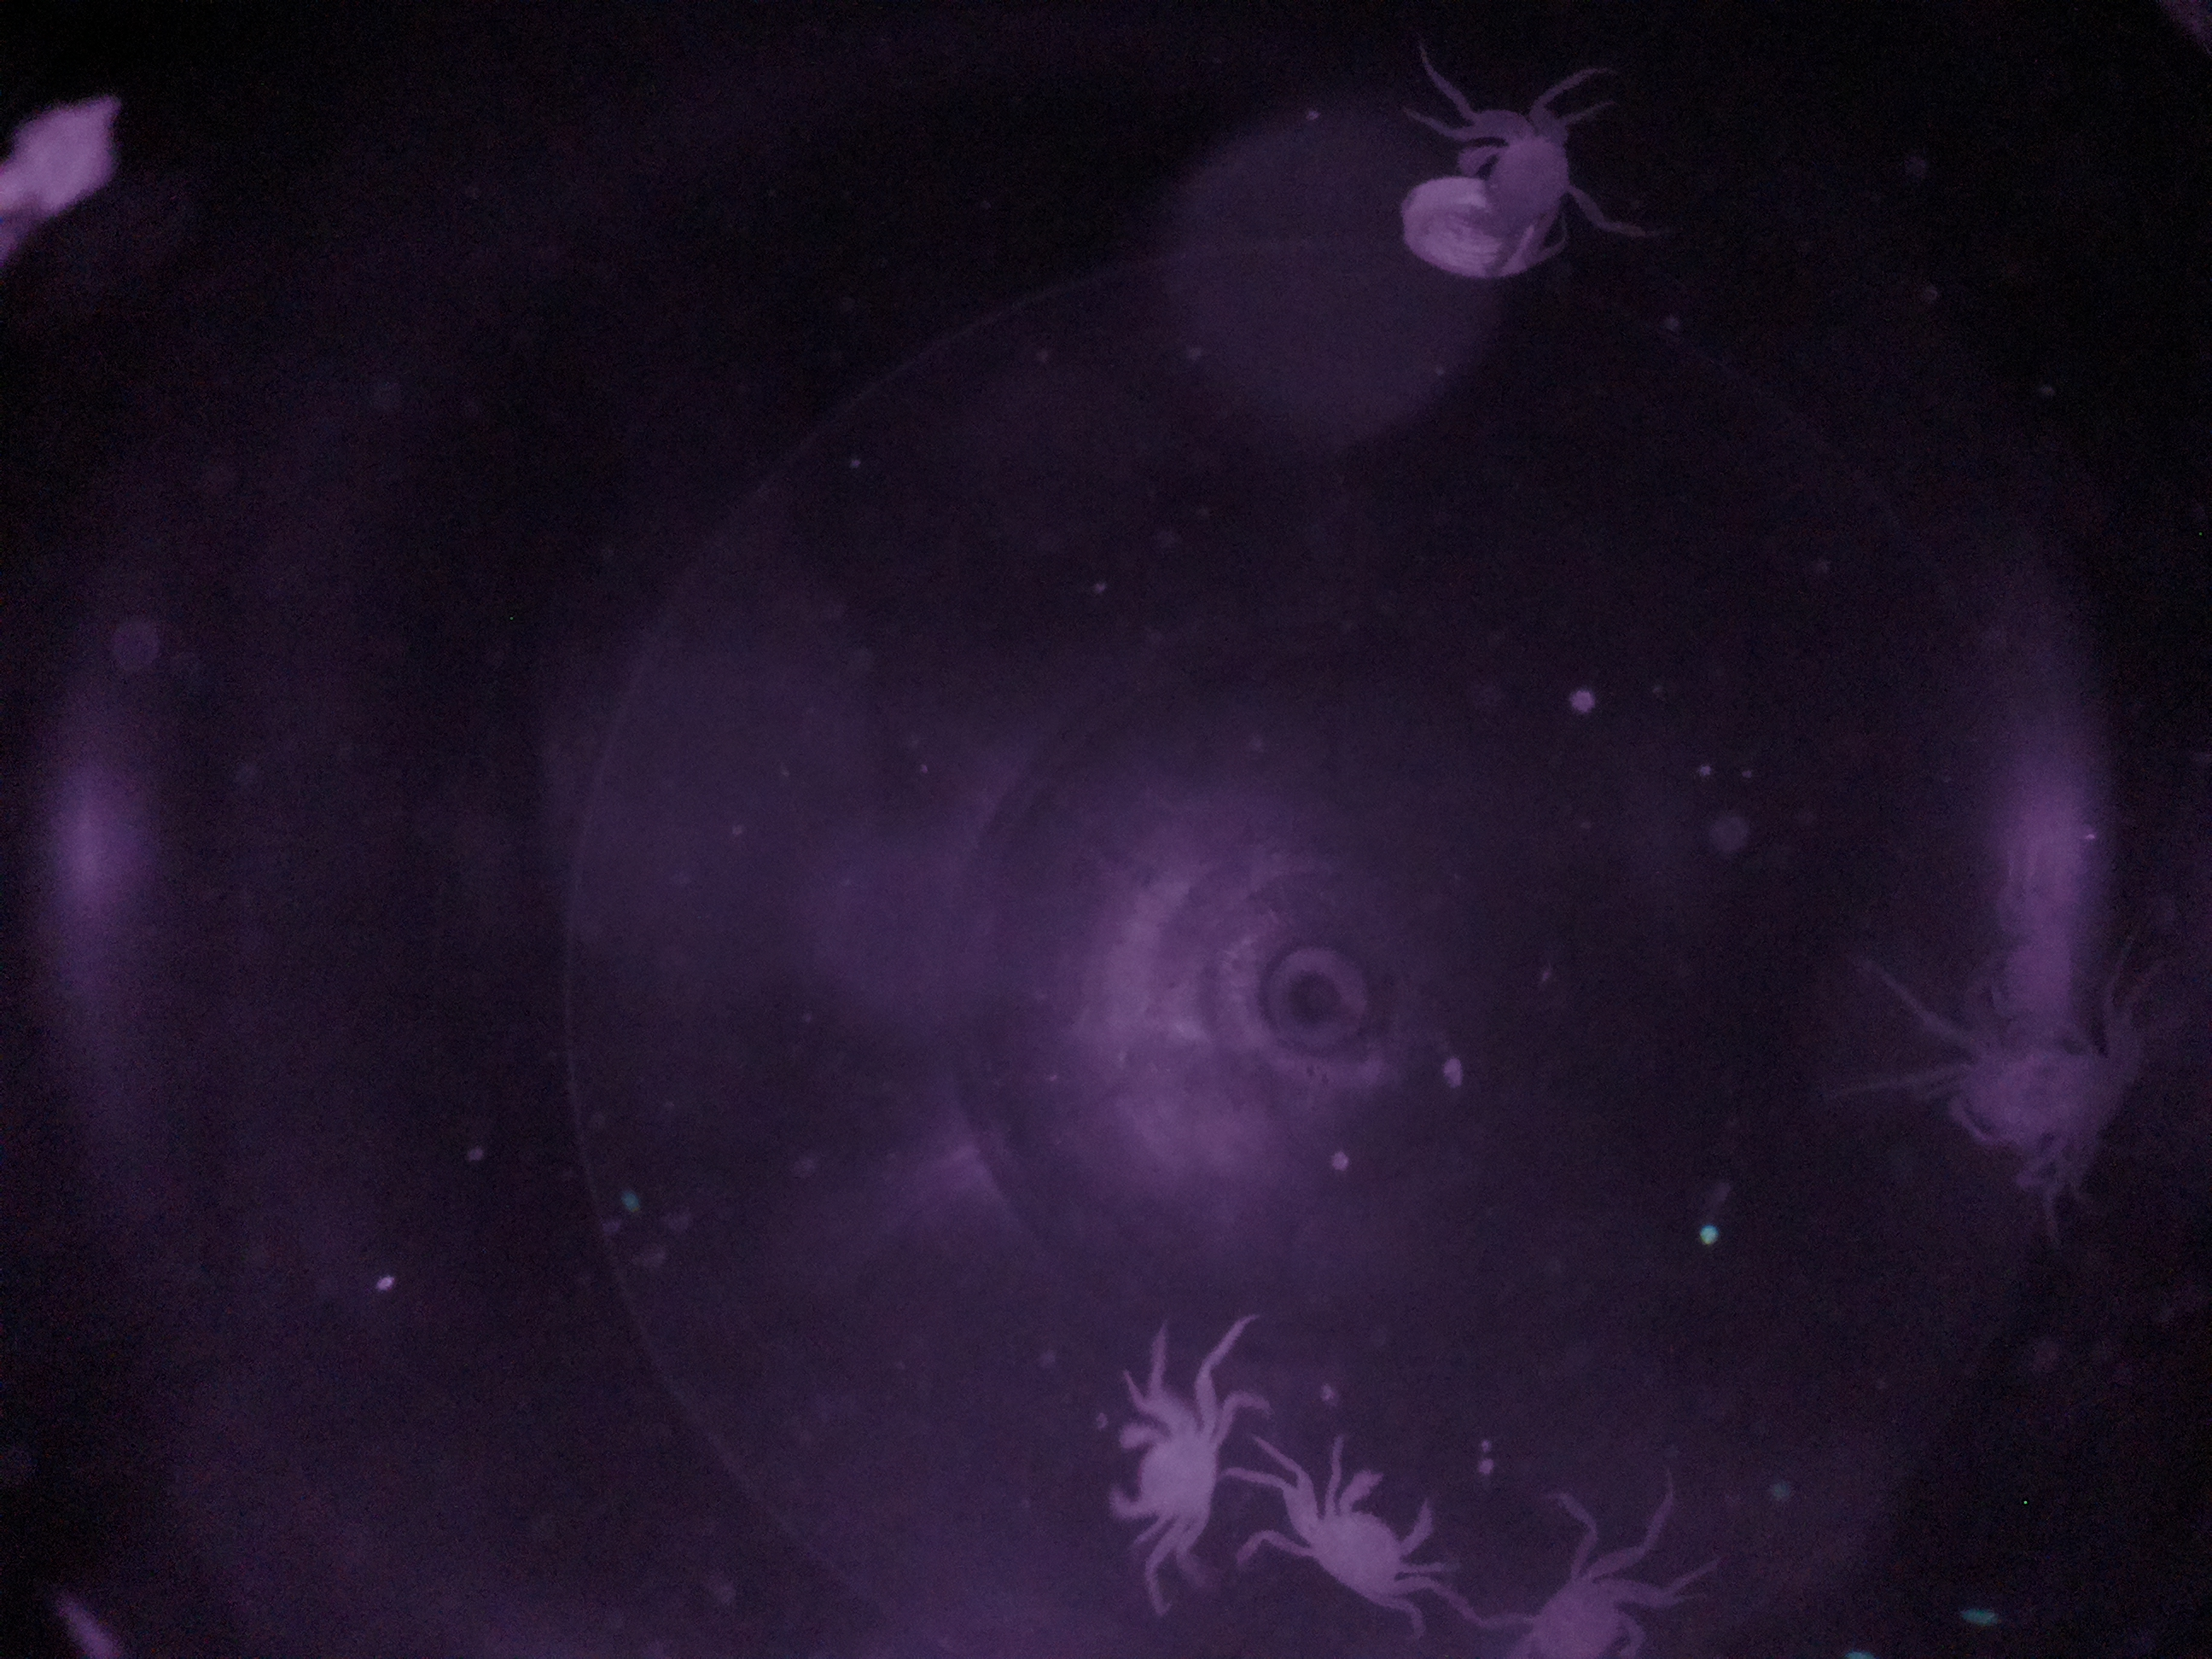Crab: (1096, 1354, 1240, 1577), (1266, 1445, 1453, 1608)
